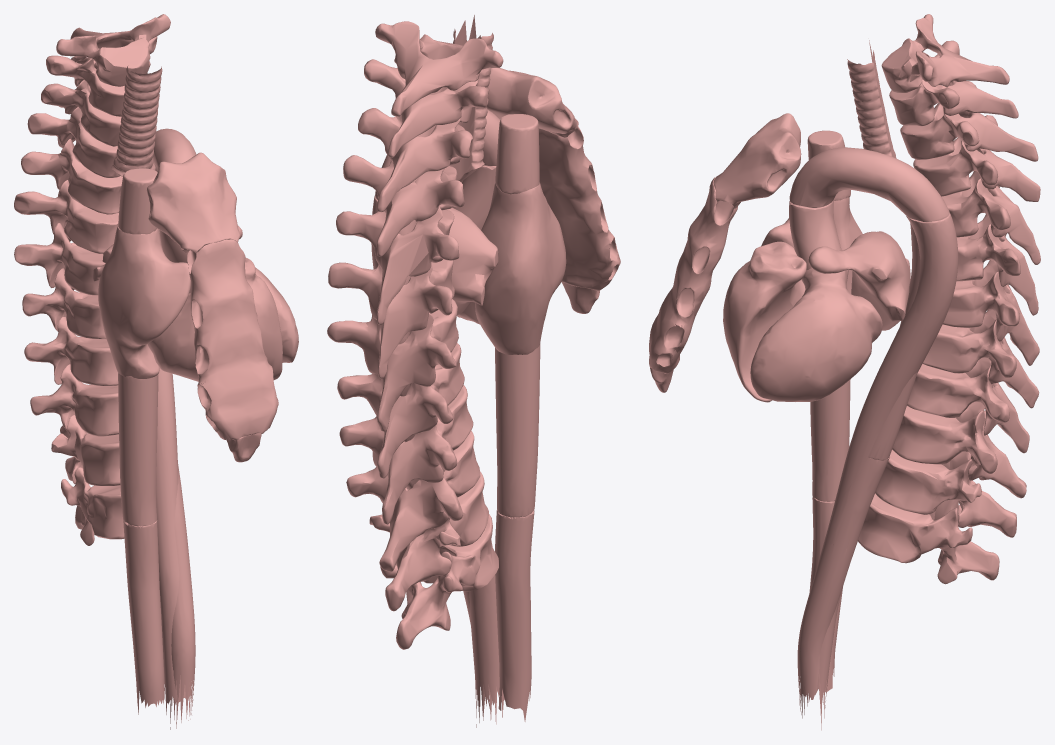
File: thoracic-innervation.glb
3 renders of one model, left to right at view 1: azimuth 30°, elevation 25°; view 2: azimuth 150°, elevation 25°; view 3: azimuth 270°, elevation 25°, orthographic. The views are drawn at different scales.
Visible parts, largest first — view 1: context-vertebral-column, context-sternum, context-heart, context-ivc, context-aorta, context-trachea, context-svc; view 2: context-vertebral-column, context-heart, context-ivc, context-sternum, context-aorta, context-svc, context-trachea; view 3: context-vertebral-column, context-aorta, context-heart, context-sternum, context-ivc, context-trachea, context-svc.
Boxes of the visible parts, <box> form: context-vertebral-column: <box>14,14,170,545</box>; context-sternum: <box>146,152,278,462</box>; context-heart: <box>93,225,298,381</box>; context-ivc: <box>118,373,164,714</box>; context-aorta: <box>153,128,196,729</box>; context-trachea: <box>111,66,162,176</box>; context-svc: <box>118,168,157,234</box>; context-vertebral-column: <box>327,21,503,649</box>; context-heart: <box>446,182,566,354</box>; context-ivc: <box>495,344,540,721</box>; context-sternum: <box>486,68,620,313</box>; context-aorta: <box>371,110,504,727</box>; context-svc: <box>495,114,539,194</box>; context-trachea: <box>449,15,493,182</box>; context-vertebral-column: <box>858,14,1040,584</box>; context-aorta: <box>789,147,958,730</box>; context-heart: <box>723,197,910,402</box>; context-sternum: <box>649,113,801,392</box>; context-ivc: <box>809,379,850,691</box>; context-trachea: <box>847,40,896,158</box>; context-svc: <box>807,130,850,200</box>.
Size of the model in its own units: 0.4959 by 1.9 by 0.9853.
